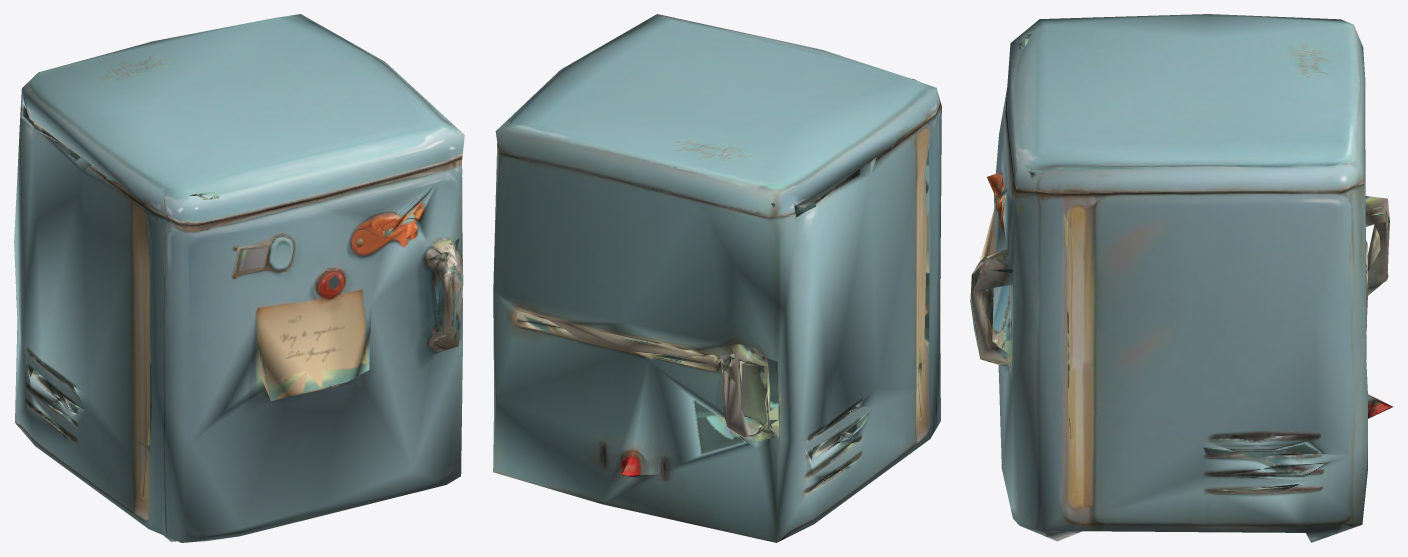
File: Charming_Blue_Fridge_0408235602_texture.glb
3 views of the same model, side by side, from view 1: azimuth 30°, elevation 25°; view 2: azimuth 150°, elevation 25°; view 3: azimuth 270°, elevation 25° (orthographic). The views are drawn at different scales.
Parts seen in each view (by area): view 1: Mesh1; view 2: Mesh1; view 3: Mesh1.
Part boxes in pixels (left/top/right/bottom): Mesh1: left=14, top=14, right=464, bottom=542; Mesh1: left=493, top=14, right=941, bottom=542; Mesh1: left=970, top=14, right=1392, bottom=542.
Bounding box in the file's own units: 1.72 × 1.99 × 1.95.
1 material, 1 textured.
